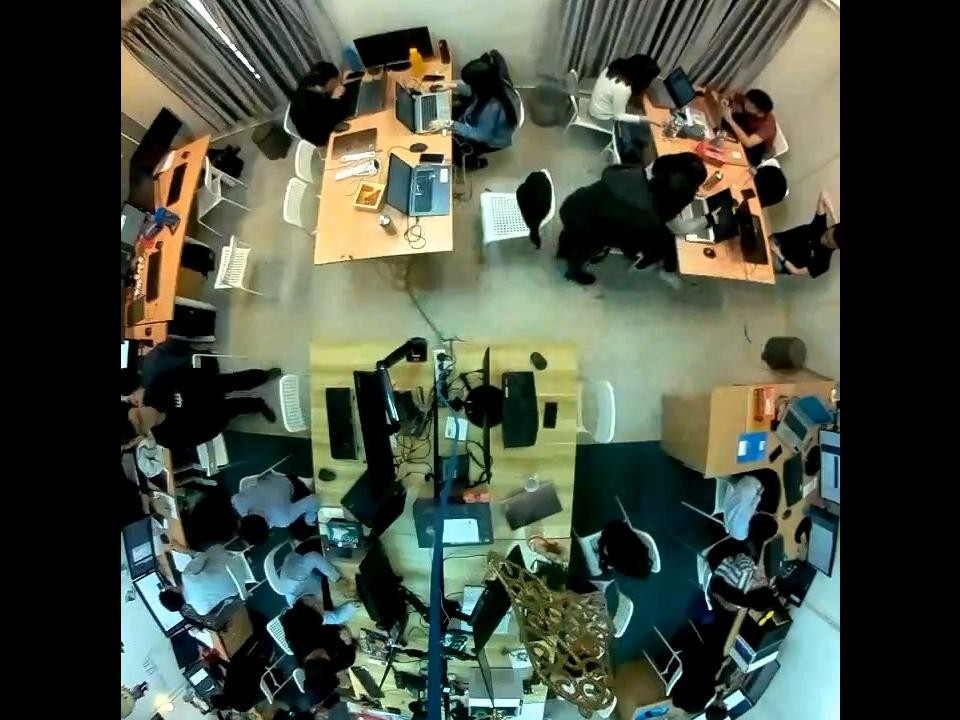name-tag: (173, 392, 182, 410)
